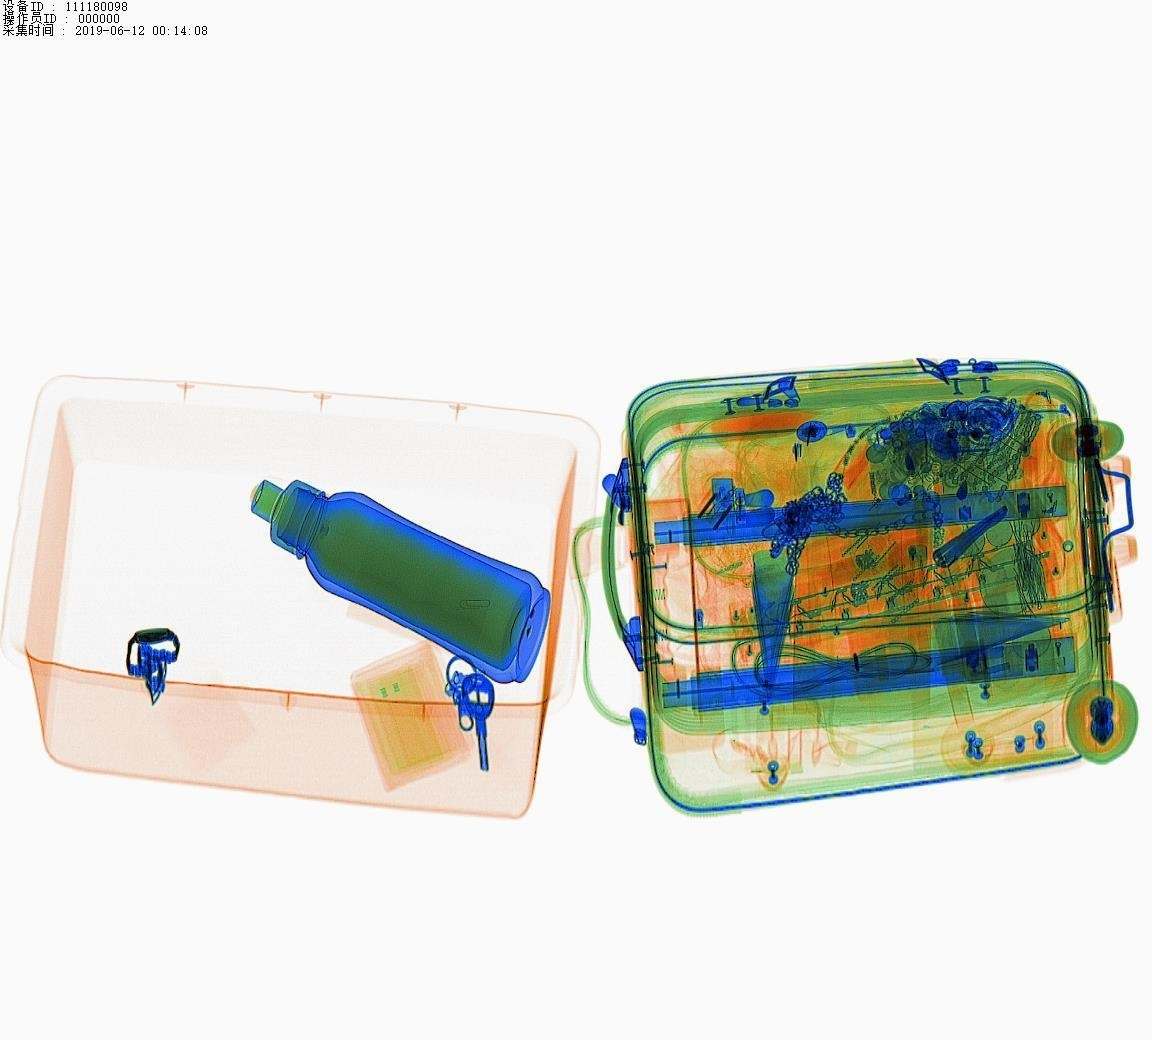NonmetallicFire: (888, 535, 939, 654)
